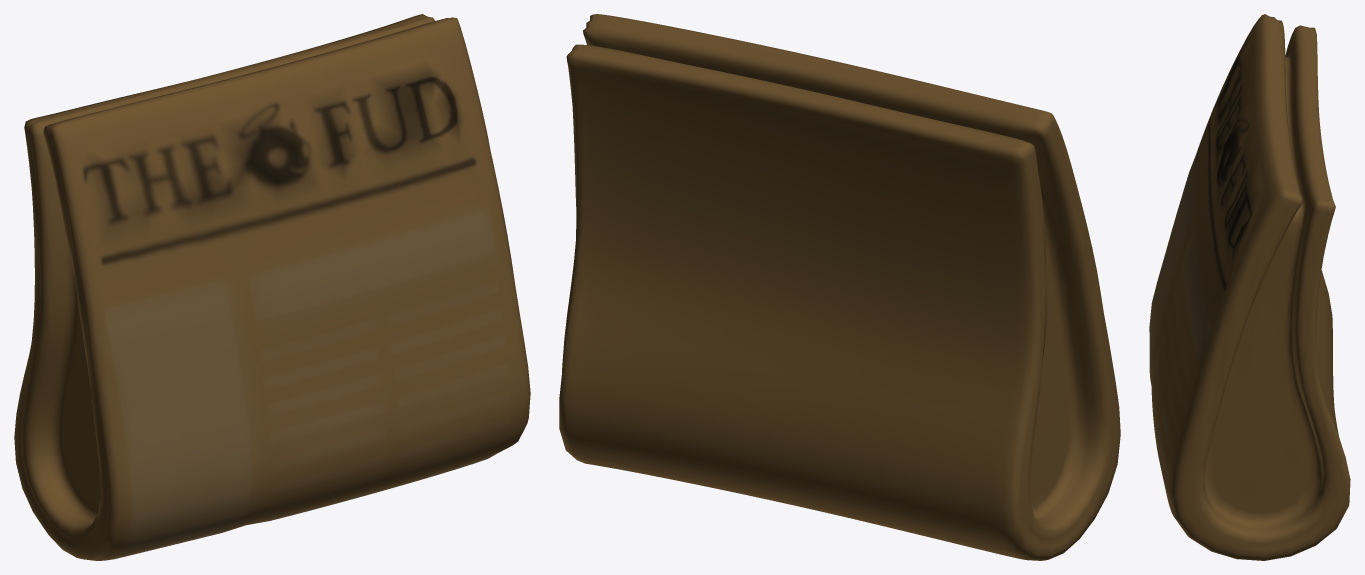
The model's file is TheFud1.glb.
The picture shows the model from 3 angles, left to right: view 1: azimuth 30°, elevation 25°; view 2: azimuth 150°, elevation 25°; view 3: azimuth 270°, elevation 25°; orthographic projection. The views are drawn at different scales.
Visible parts, largest first — view 1: TheFud1; view 2: TheFud1; view 3: TheFud1.
Boxes of the visible parts, x1,y1,x2,y2 form: TheFud1: (14, 14, 530, 560); TheFud1: (559, 14, 1120, 560); TheFud1: (1149, 14, 1350, 560).
Bounding box in the file's own units: 0.00553 × 0.00512 × 0.00251.
Materials: 1 (1 with a texture image).
